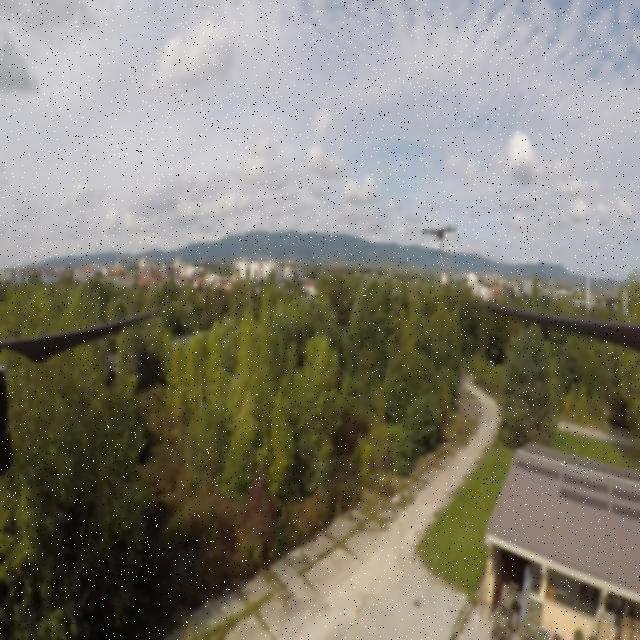UAV: (408, 219, 464, 249)
